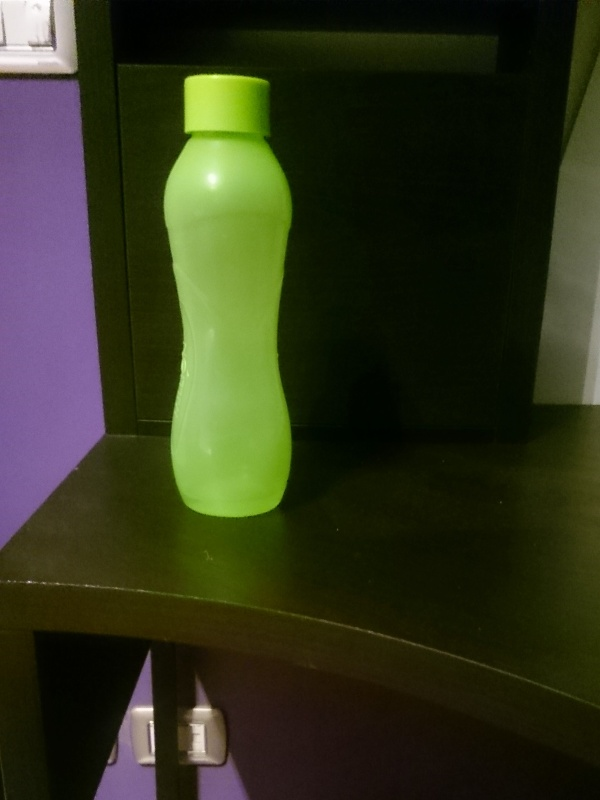my bottle: (162, 76, 292, 516)
